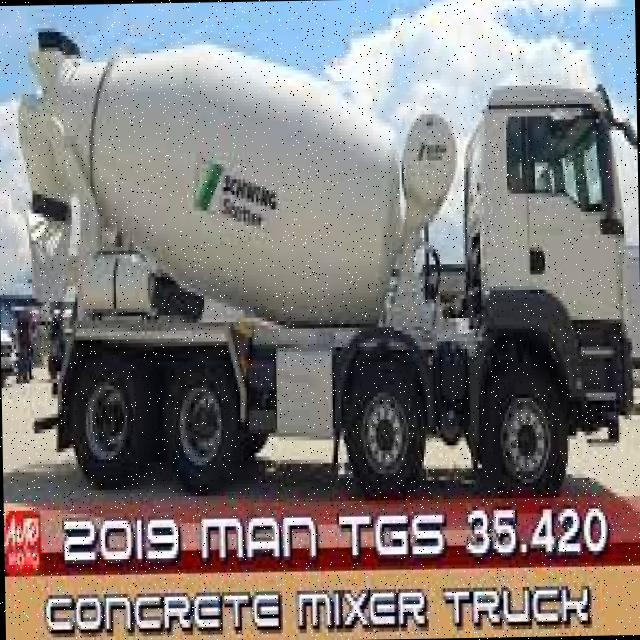Mixer Truck: (14, 13, 636, 502)
